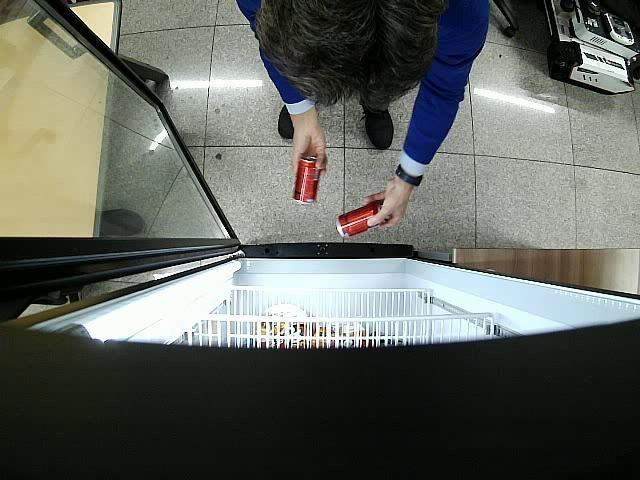11_cocaColaZero: (335, 200, 390, 238), (292, 154, 322, 204)
